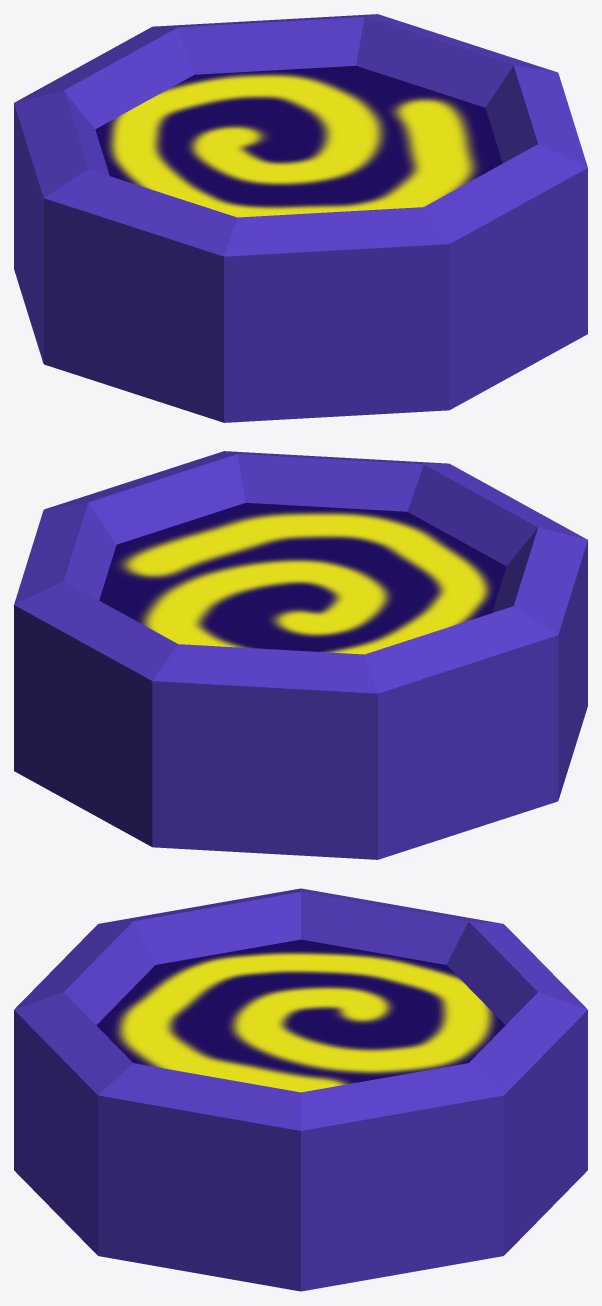
Rendered from enemy1.glb.
3 renders of one model, top to bottom at view 1: azimuth 30°, elevation 25°; view 2: azimuth 150°, elevation 25°; view 3: azimuth 270°, elevation 25°, orthographic. The views are drawn at different scales.
Visible parts, largest first — view 1: Enemy; view 2: Enemy; view 3: Enemy.
Boxes of the visible parts, box(x1,y1,x2,y2) form: Enemy: box(14, 14, 587, 422); Enemy: box(14, 451, 587, 859); Enemy: box(14, 888, 587, 1291).
Bounding box in the file's own units: 1 × 0.3435 × 1.
1 material, 1 textured.
